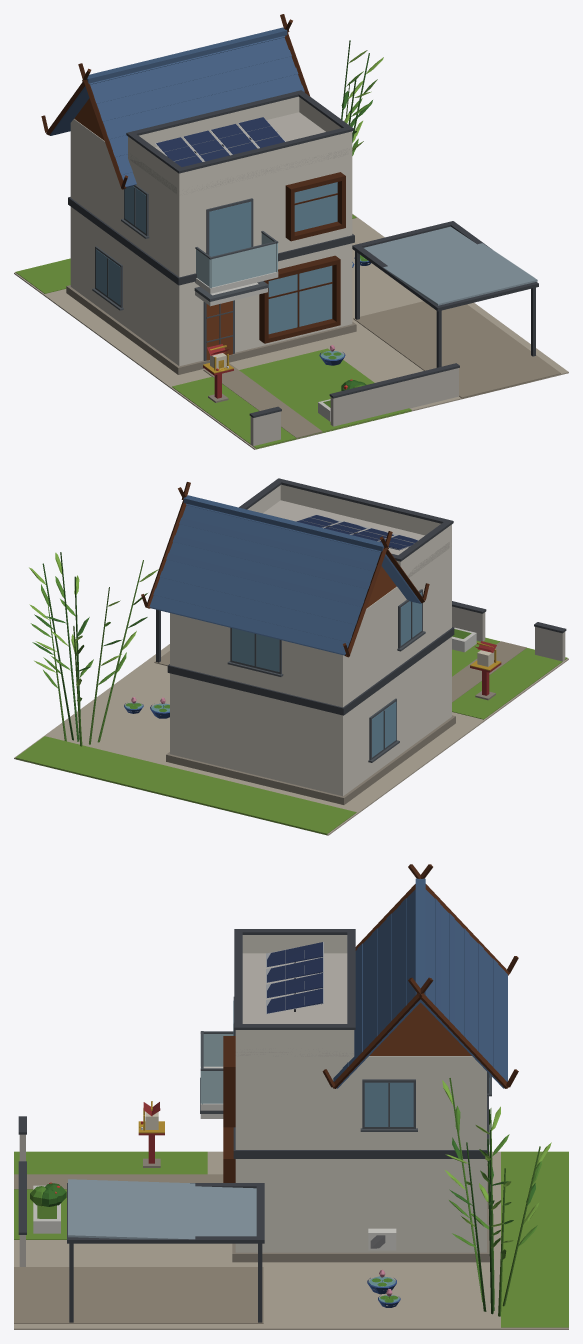
File: house12_1.glb
3 views of the same model, one above another, from view 1: azimuth 30°, elevation 25°; view 2: azimuth 150°, elevation 25°; view 3: azimuth 270°, elevation 25° (orthographic). The views are drawn at different scales.
Parts seen in each view (by area): view 1: body; view 2: body; view 3: body.
Boxes of the visible parts, x1,y1,x2,y2 form: body: (14,14,568,449); body: (14,478,568,835); body: (14,864,568,1329).
Size of the model in its own units: 12.79 by 9.25 by 15.9.
